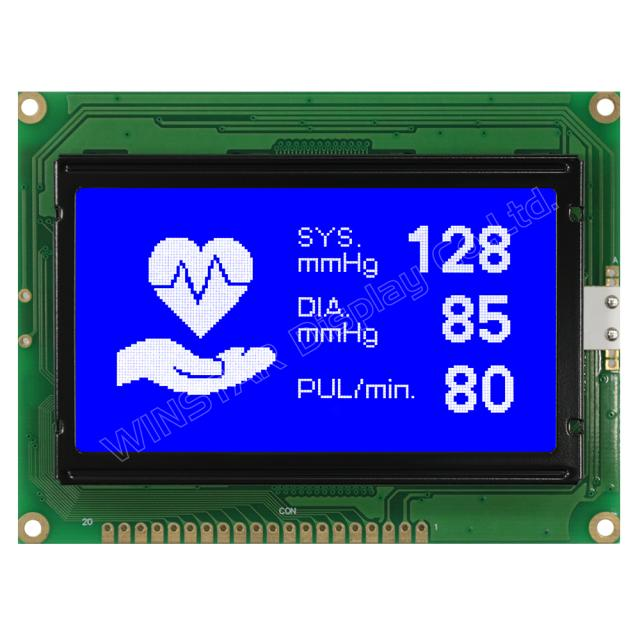Display: (11, 86, 616, 550)
